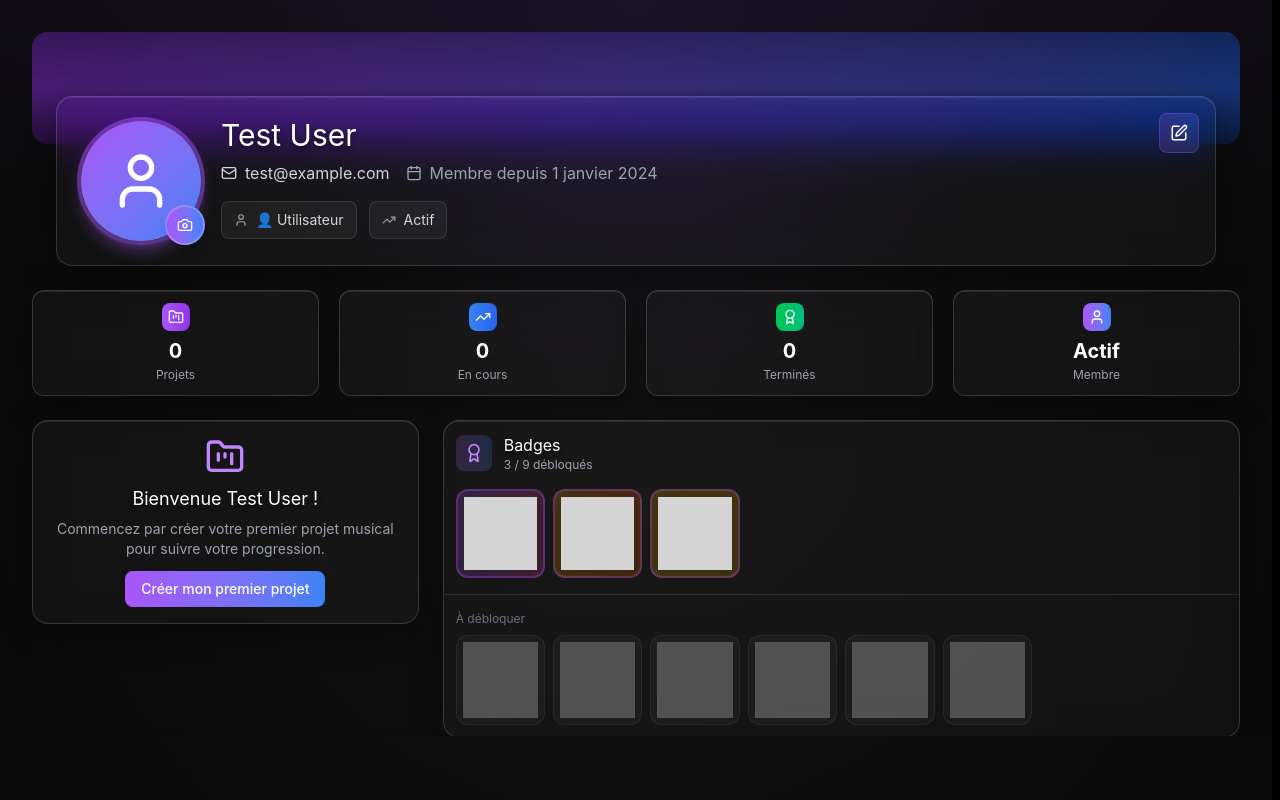
Test: ProfilePage - Tests d'intégration › Modification du profil › devrait permettre d'éditer le nom et l'email
This screenshot has width=1280, height=800.
What coordinates should you click on to do the following:
click the button named "Modifier le profil"
I would click on:
 (1179, 133)
Its box is top-left (1159, 113), bottom-right (1199, 153).
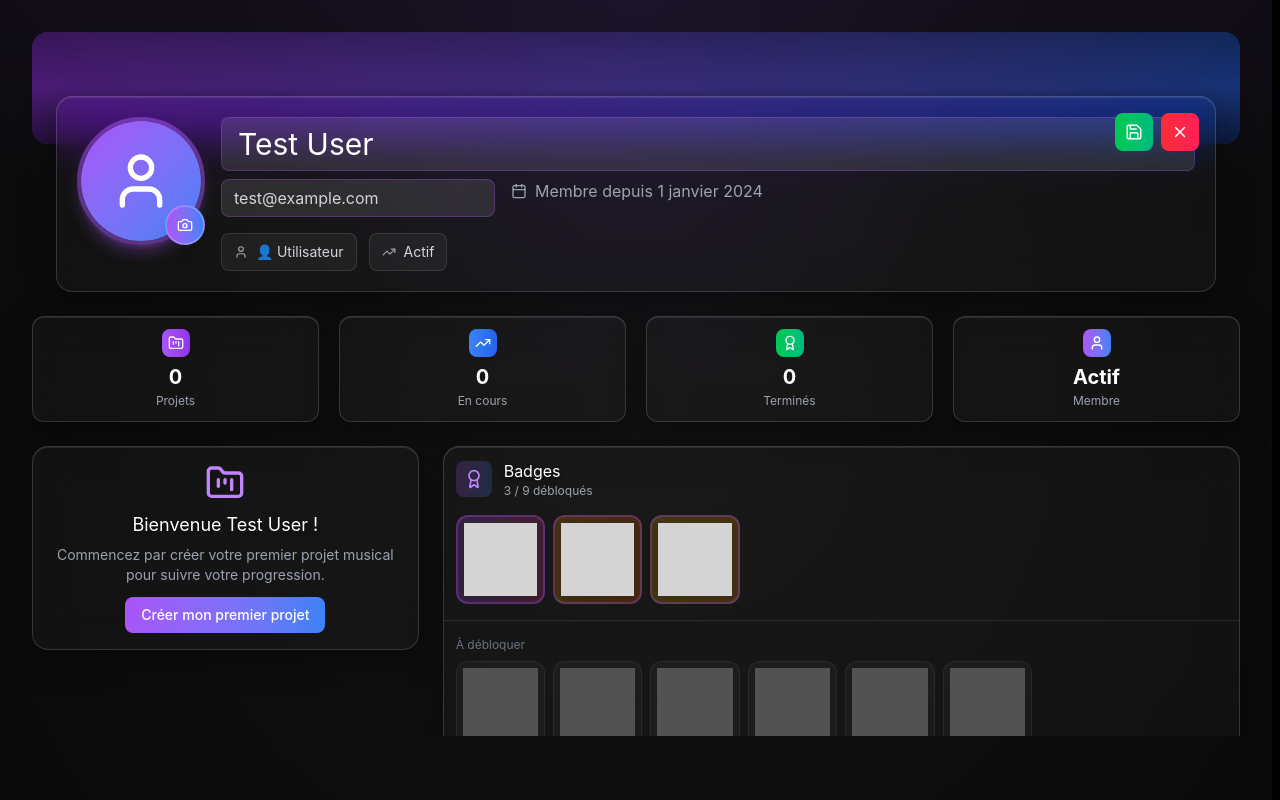
Check: the 1st field showing "Test User" is shown, box top-left (221, 117), bottom-right (1195, 171)
Check: the field showing "test@example.com" next to "Membre depuis" is shown, box top-left (221, 179), bottom-right (495, 217)
